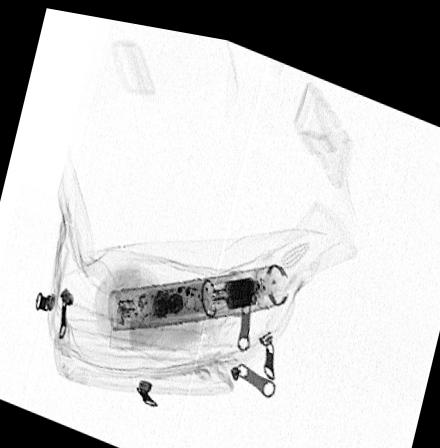Baton: (104, 253, 288, 328)
